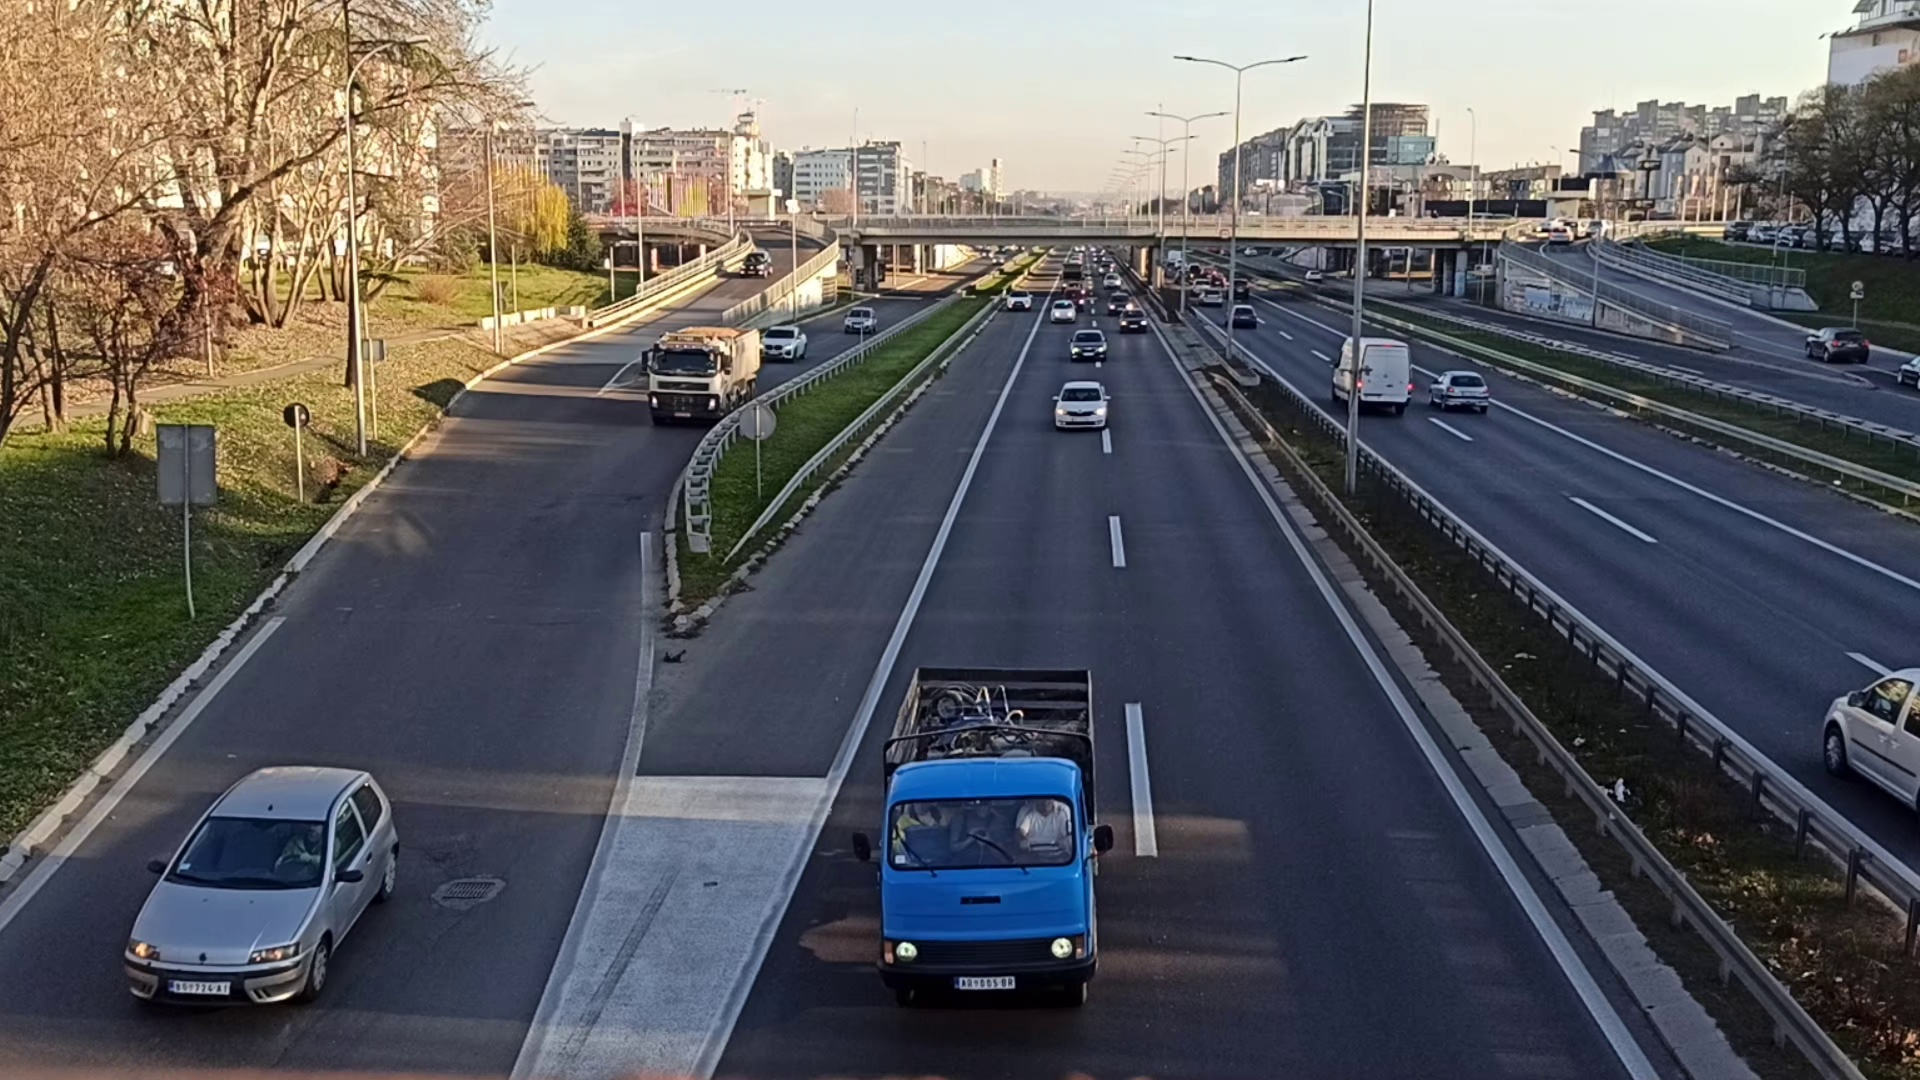car: (115, 760, 405, 1015), (1052, 378, 1110, 433), (1428, 371, 1490, 414), (761, 320, 807, 361), (1069, 327, 1108, 364), (843, 305, 880, 334), (1120, 309, 1147, 334), (1228, 303, 1255, 328), (1050, 299, 1076, 322), (1108, 293, 1134, 315), (1006, 287, 1034, 309)
truck: (870, 658, 1121, 1030), (645, 324, 760, 422)
van: (1331, 334, 1412, 413)
